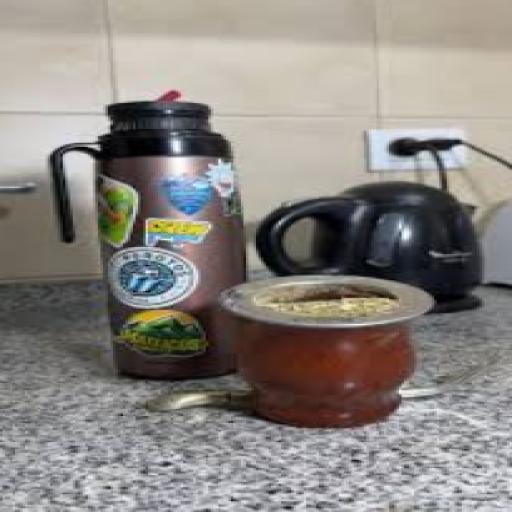mate: (218, 276, 429, 427)
termo: (50, 100, 243, 379)
